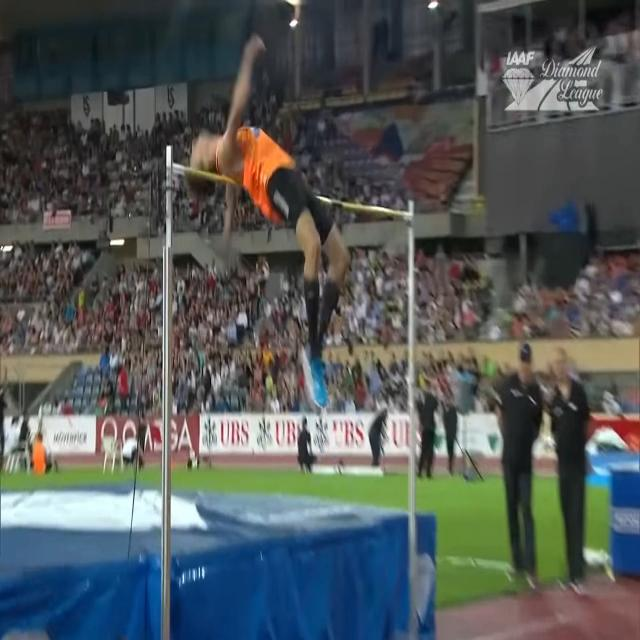jump: (189, 28, 350, 414)
